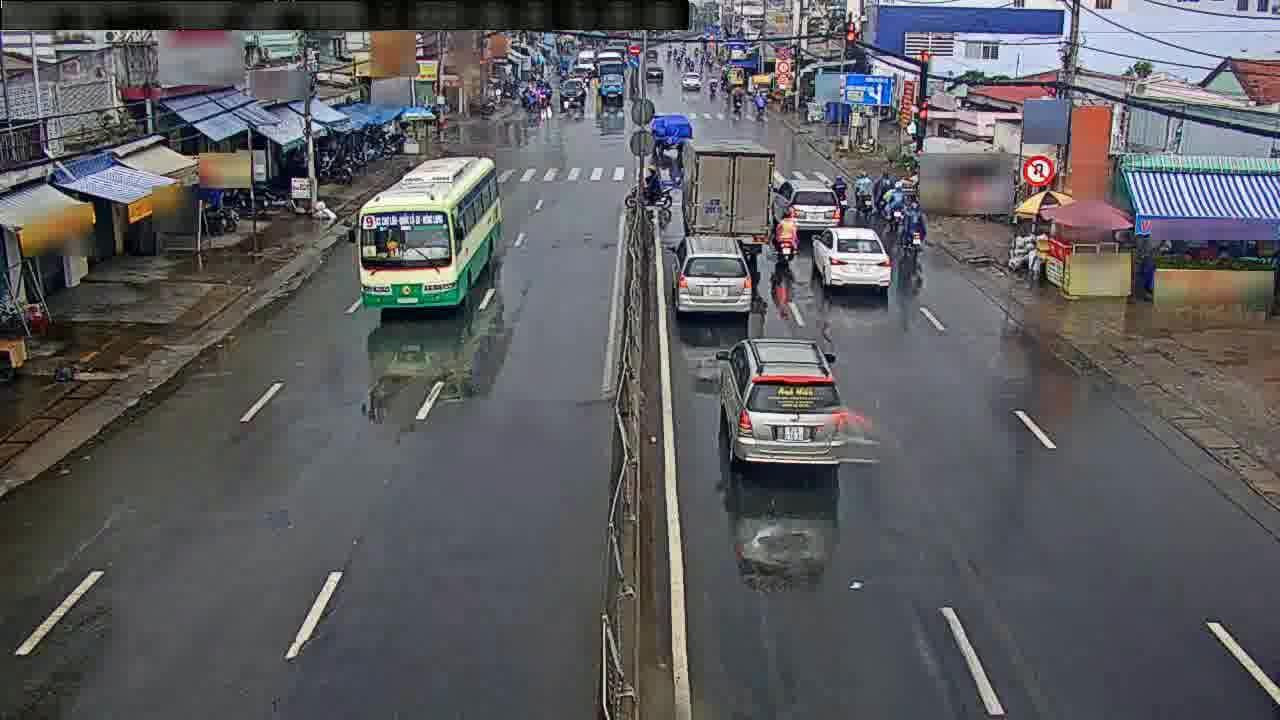14: (364, 153, 495, 306)
container: (708, 333, 853, 473), (671, 234, 757, 314), (809, 219, 894, 293), (782, 185, 845, 246)
motorbike: (897, 195, 927, 254), (640, 157, 670, 211), (770, 214, 799, 269), (879, 176, 908, 231), (851, 170, 878, 217), (823, 174, 848, 213)
